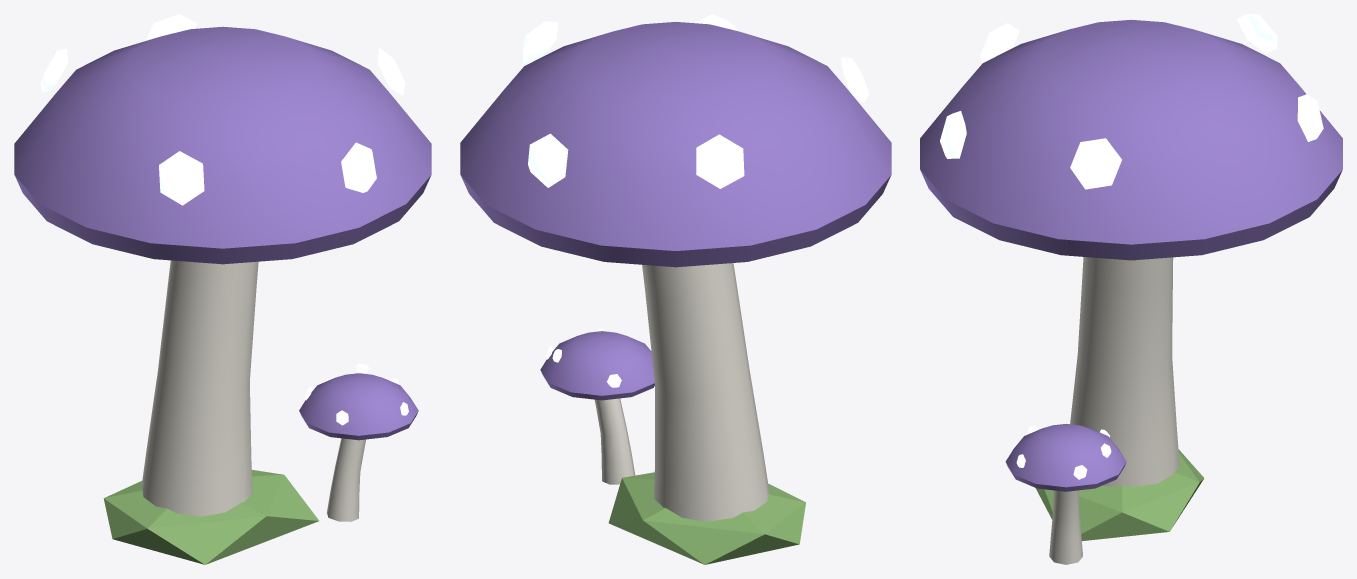
The model's file is mushroom_big.glb.
The picture shows the model from 3 angles, left to right: view 1: azimuth 30°, elevation 25°; view 2: azimuth 150°, elevation 25°; view 3: azimuth 270°, elevation 25°; orthographic projection. The views are drawn at different scales.
Parts seen in each view (by area): view 1: mushroom_big; view 2: mushroom_big; view 3: mushroom_big.
Part boxes in pixels (x1,y1,x2,y2): mushroom_big: (14,14,431,564); mushroom_big: (460,14,891,564); mushroom_big: (920,14,1342,564).
Bounding box in the file's own units: 0.92 × 1.13 × 0.906.
